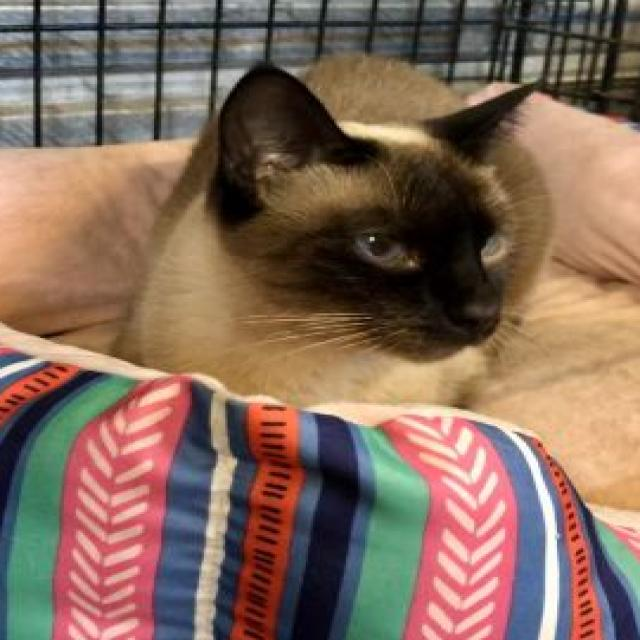Siamese: (109, 47, 557, 420)
